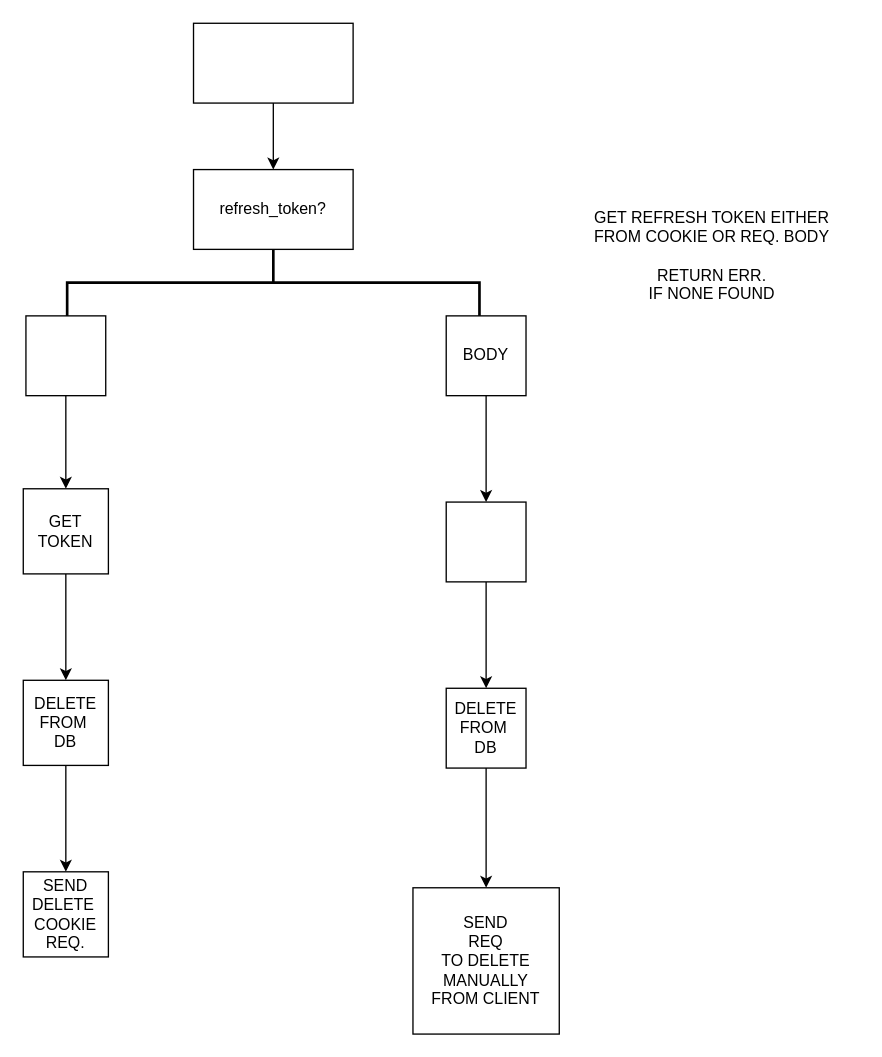
Some shapes in this 882 by 1057 pixel diagram are drawn without their labels. The shapes that lost their labels are listed below. From the top down, each one's centre as x and y in pixels, then its label:
[272,62]: POST /logout
[65,355]: COOKIES
[485,541]: PARSE REF TOKEN
